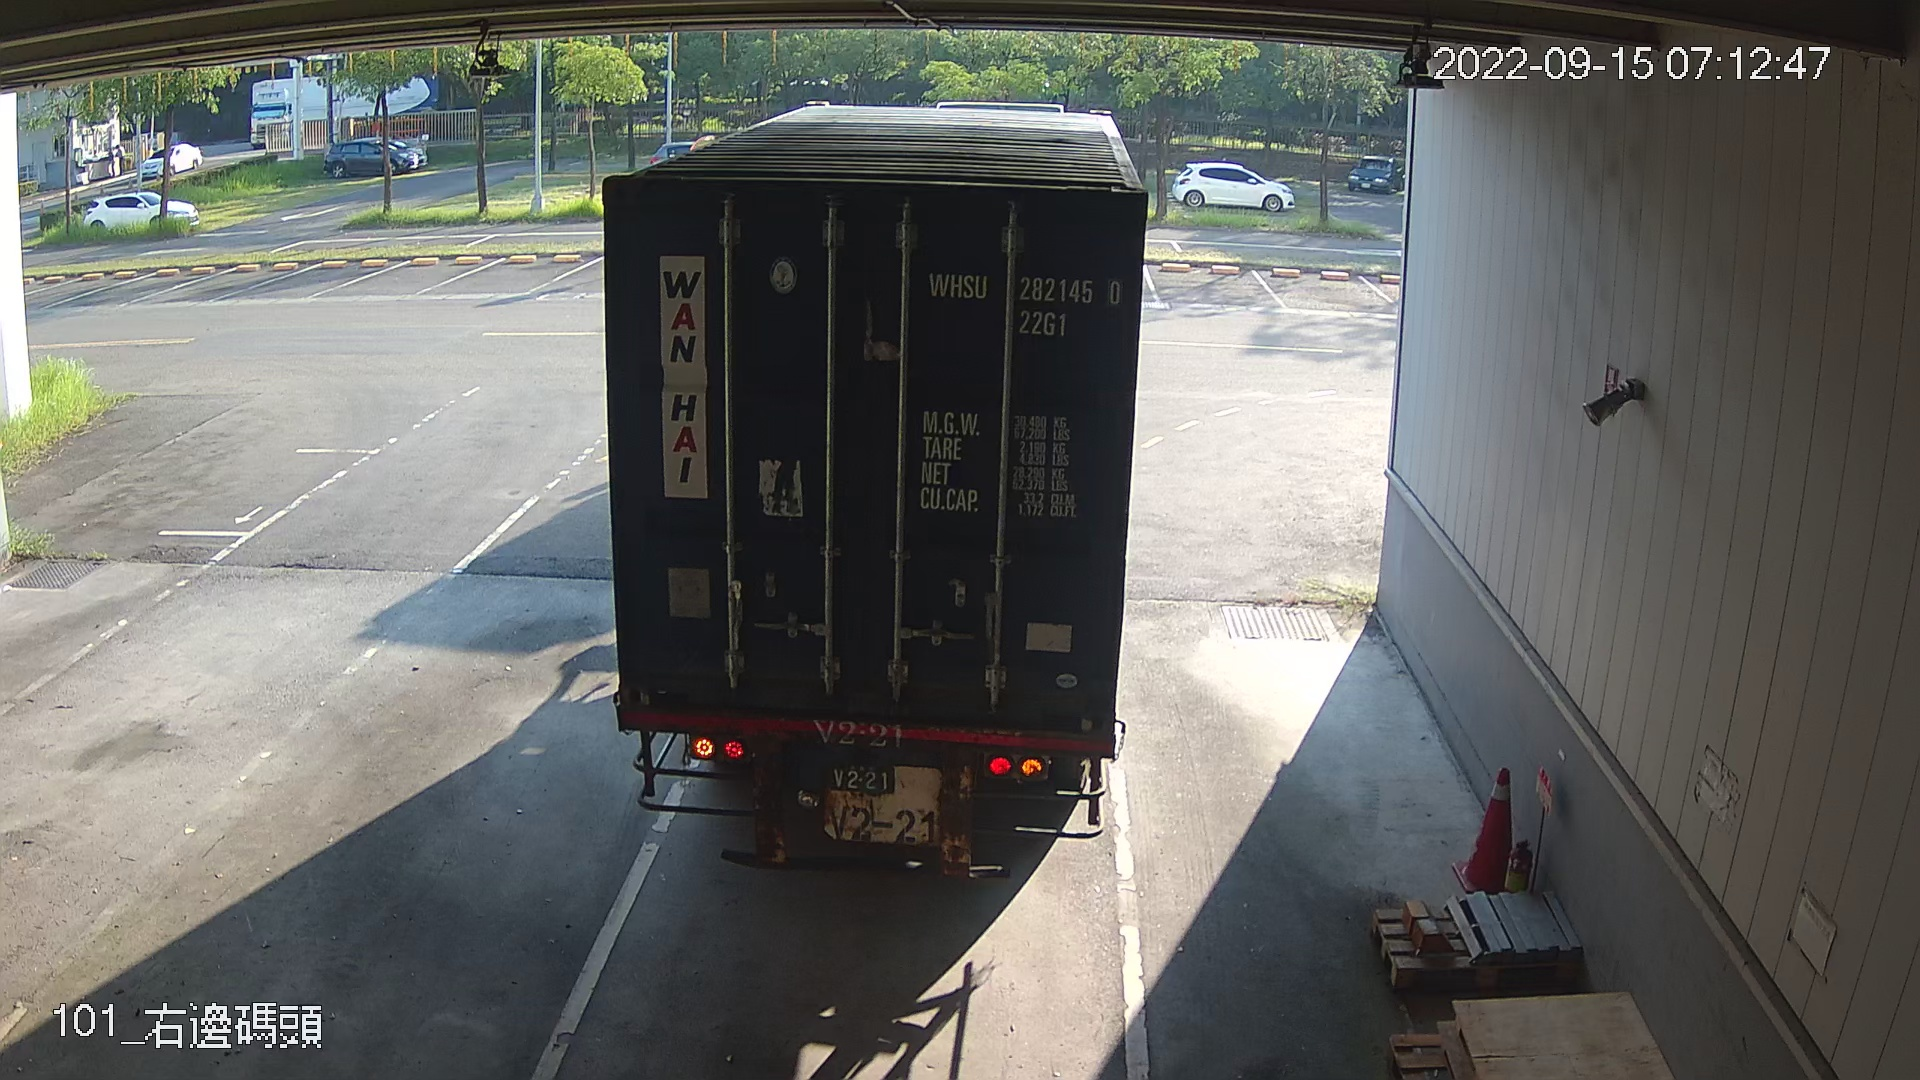container: (914, 262, 1129, 342)
